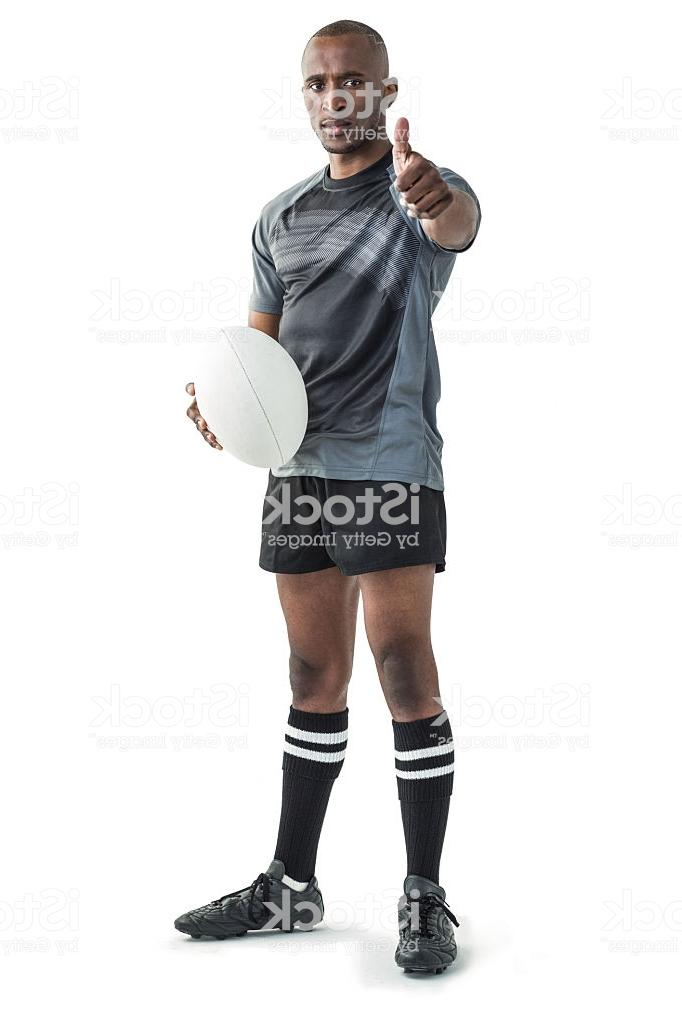thumbsup: (393, 116, 455, 221)
